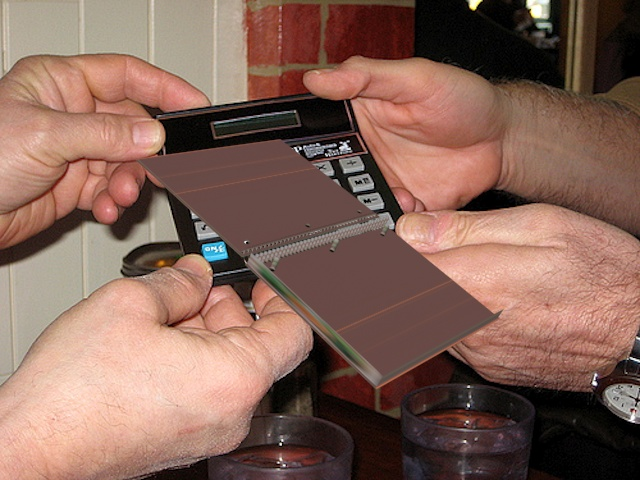paper_notebook: (129, 129, 513, 401)
